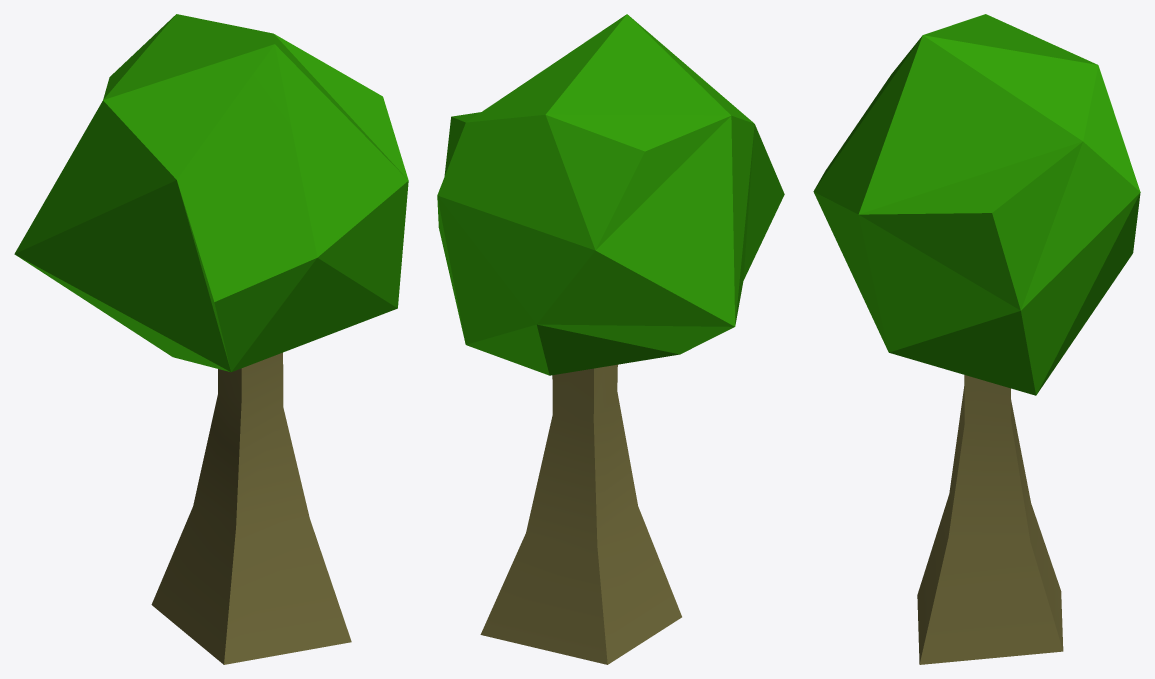
The model's file is A_HappyTree1.fbx.
The picture shows the model from 3 angles, left to right: view 1: azimuth 30°, elevation 25°; view 2: azimuth 150°, elevation 25°; view 3: azimuth 270°, elevation 25°; orthographic projection. The views are drawn at different scales.
Parts seen in each view (by area): view 1: GeoSphere001; view 2: GeoSphere001; view 3: GeoSphere001.
Boxes of the visible parts, left/top/right/bottom form: GeoSphere001: left=14, top=14, right=408, bottom=664; GeoSphere001: left=437, top=14, right=784, bottom=664; GeoSphere001: left=813, top=14, right=1140, bottom=664.
Size of the model in its own units: 64.3 by 115 by 57.22.
